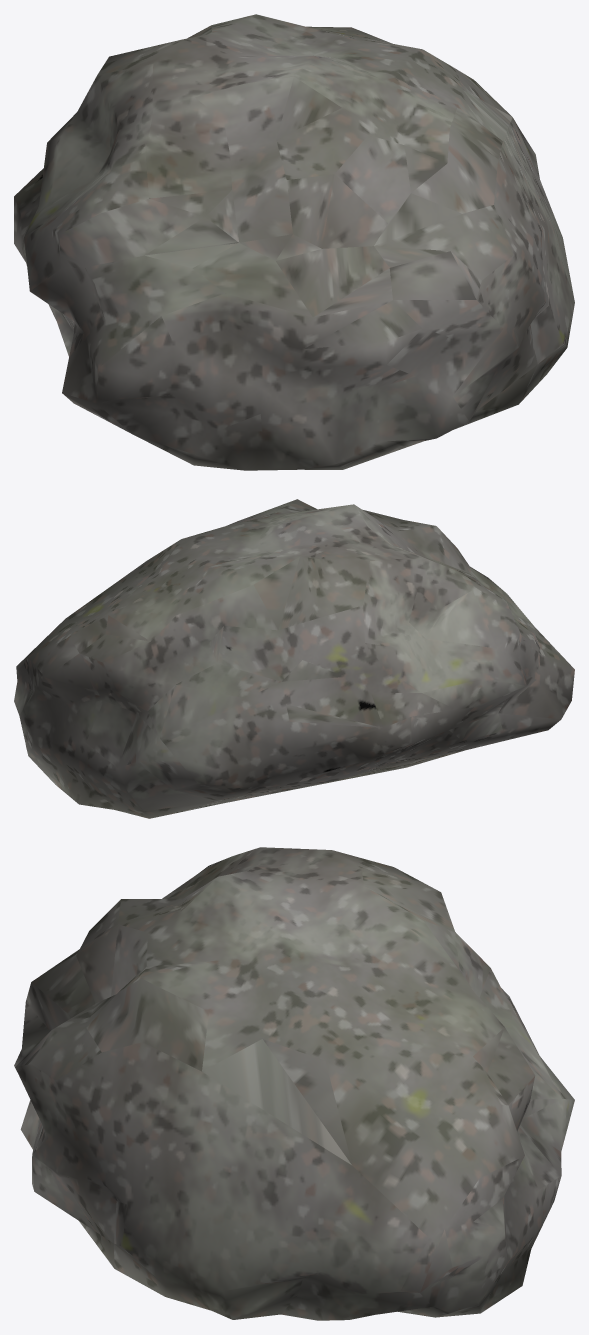
The model's file is boulder_050_LOD1.fbx.
The picture shows the model from 3 angles, top to bottom: view 1: azimuth 30°, elevation 25°; view 2: azimuth 150°, elevation 25°; view 3: azimuth 270°, elevation 25°; orthographic projection. The views are drawn at different scales.
Visible parts, largest first — view 1: Boulder_050_LOD1; view 2: Boulder_050_LOD1; view 3: Boulder_050_LOD1.
Part boxes in pixels (box(x1,y1,x2,y2)): Boulder_050_LOD1: box(14, 14, 574, 470); Boulder_050_LOD1: box(14, 499, 574, 818); Boulder_050_LOD1: box(14, 847, 574, 1320).
Bounding box in the file's own units: 0.4788 × 0.2651 × 0.4099.
Materials: 1 (1 with a texture image).
